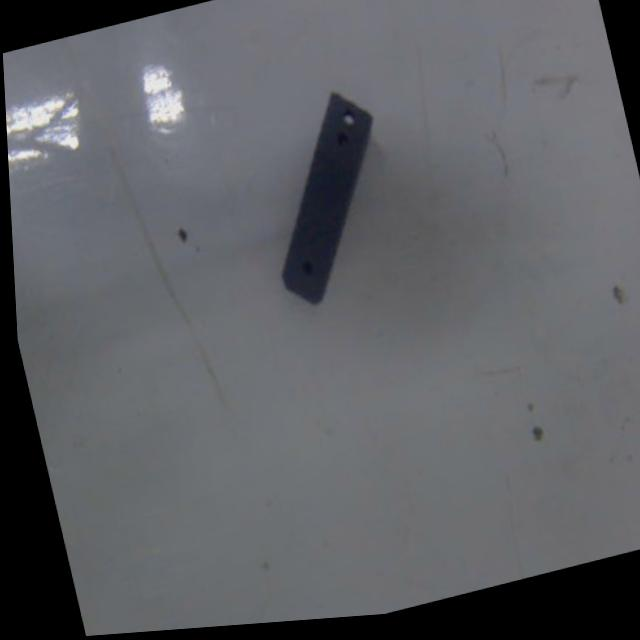grey: (241, 78, 417, 320)
head: (294, 255, 319, 286)
